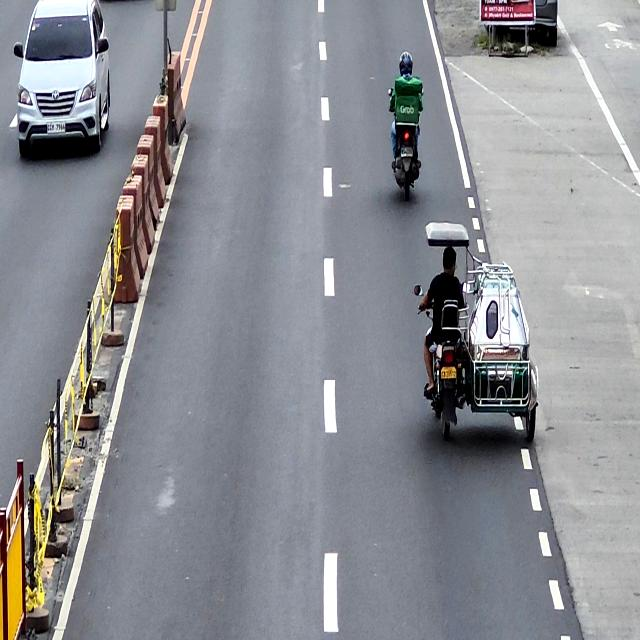License-Plate: (440, 365, 458, 379), (399, 146, 414, 158)
Motorcycle: (388, 84, 424, 203)
Tricycle: (414, 223, 539, 441)
